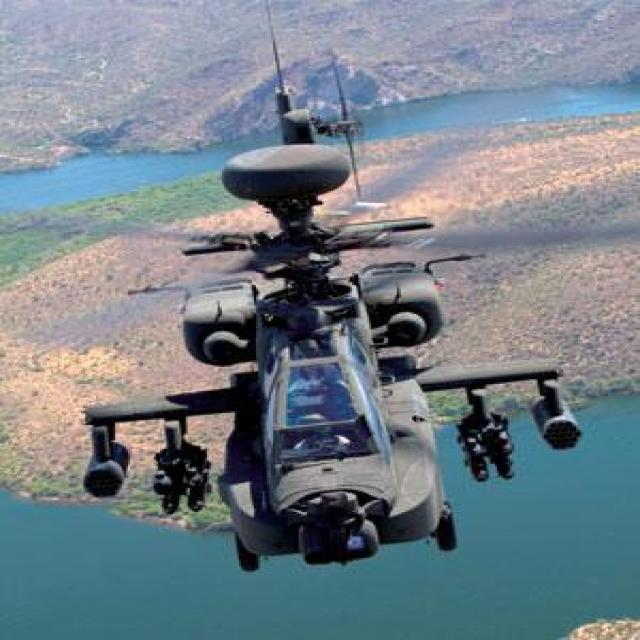MIL_HELO: (55, 42, 626, 582)
